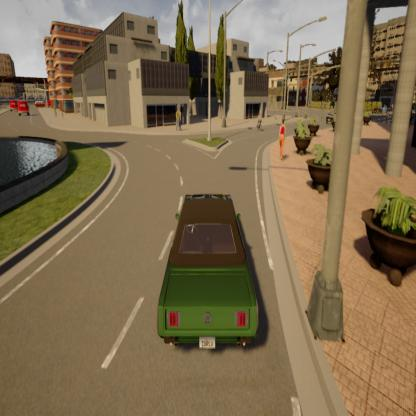Cars: (158, 192, 263, 350), (253, 112, 265, 132)
Pedestrian: (278, 115, 287, 164), (175, 109, 183, 130)
